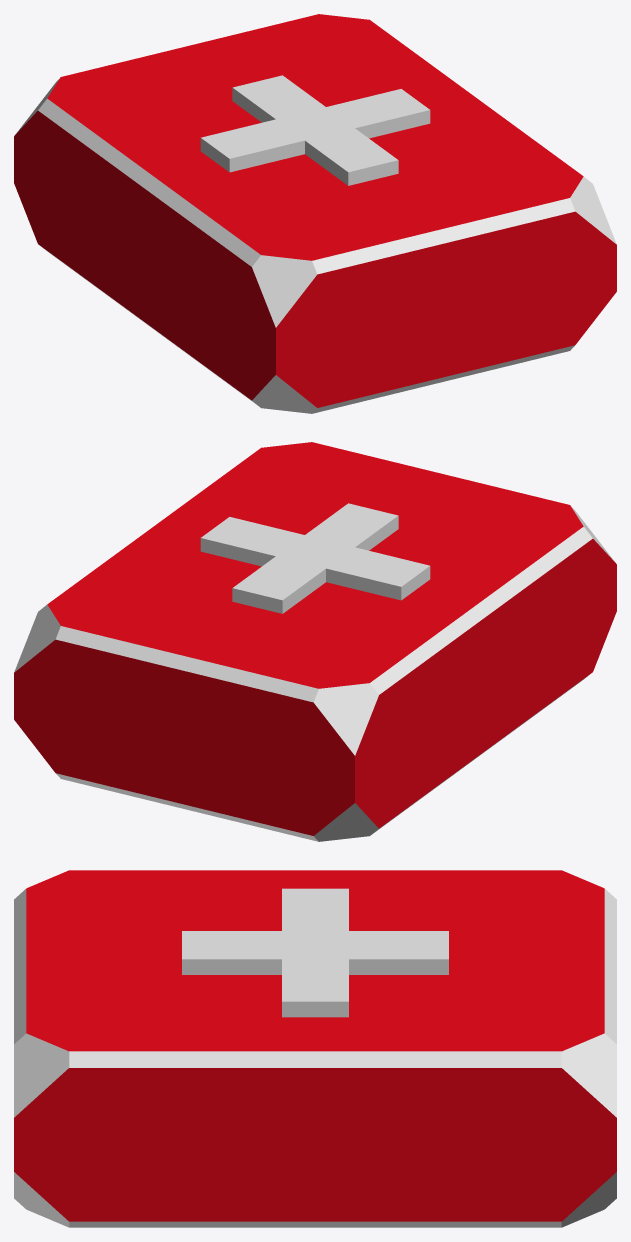
Rendered from HealthPack.glb.
3 renders of one model, top to bottom at view 1: azimuth 30°, elevation 25°; view 2: azimuth 150°, elevation 25°; view 3: azimuth 270°, elevation 25°, orthographic. The views are drawn at different scales.
Parts seen in each view (by area): view 1: HealthPack; view 2: HealthPack; view 3: HealthPack.
Part boxes in pixels (x1,y1,x2,y2): HealthPack: (14,14,616,413); HealthPack: (14,442,616,841); HealthPack: (14,870,616,1227).
Bounding box in the file's own units: 0.3272 × 0.1528 × 0.4351.
